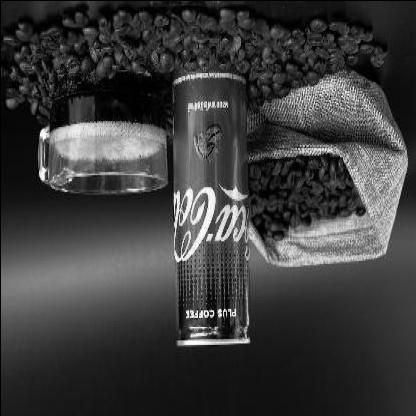alumunium_can: (170, 62, 249, 348)
objects: (37, 72, 168, 194)
